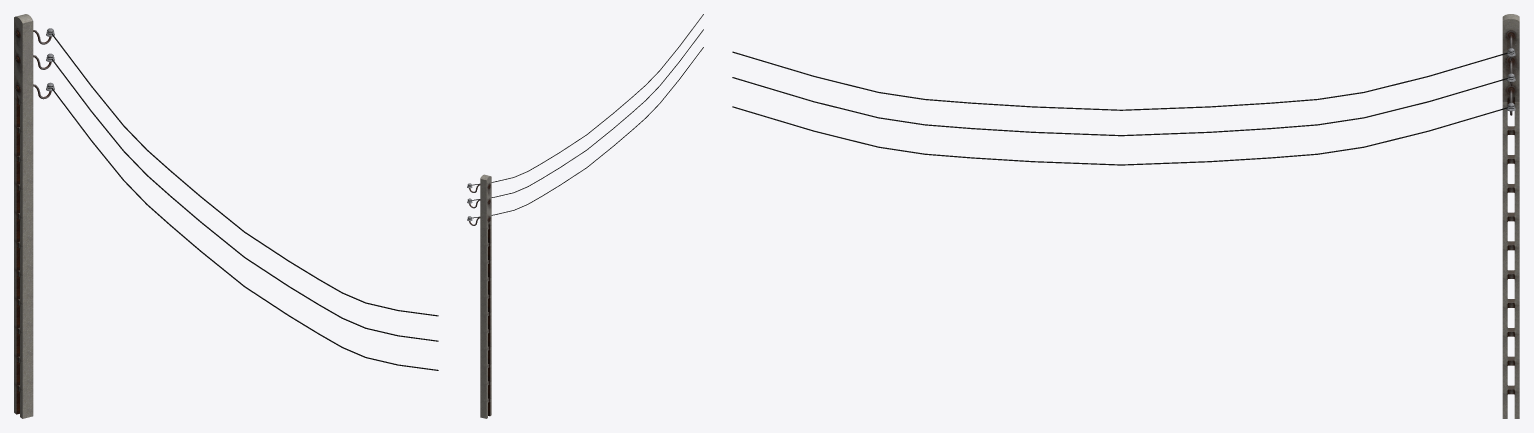
File: pole_wires.glb
3 views of the same model, side by side, from view 1: azimuth 30°, elevation 25°; view 2: azimuth 150°, elevation 25°; view 3: azimuth 270°, elevation 25° (orthographic). The views are drawn at different scales.
Parts seen in each view (by area): view 1: pole_wires; view 2: pole_wires; view 3: pole_wires.
Part boxes in pixels (bbox=[...]): pole_wires: bbox=[14, 14, 438, 418]; pole_wires: bbox=[467, 14, 703, 418]; pole_wires: bbox=[732, 14, 1519, 418].
Bounding box in the file's own units: 0.8932 × 9 × 16.07.
Materials: 1 (1 with a texture image).
